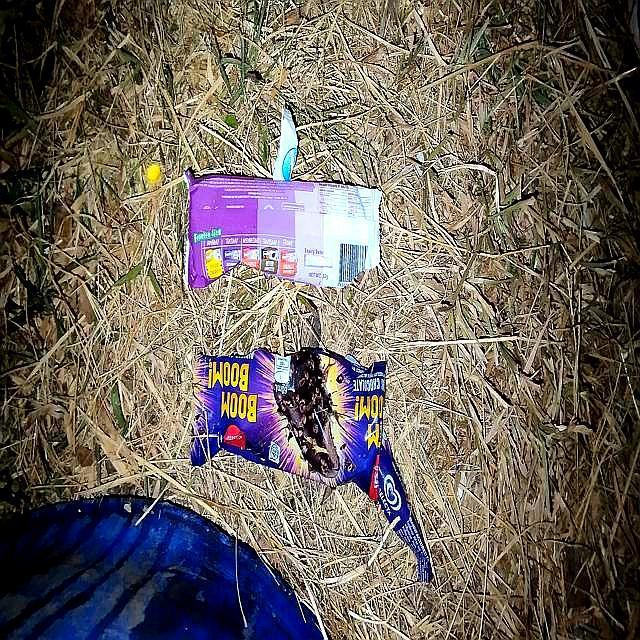Non-biodegradable: (190, 349, 392, 502), (185, 169, 384, 291)
